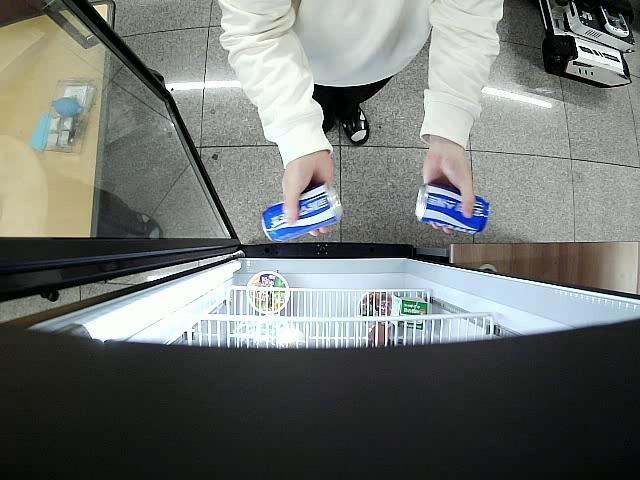13_pocariSweat: (262, 182, 342, 241), (414, 182, 490, 234)
